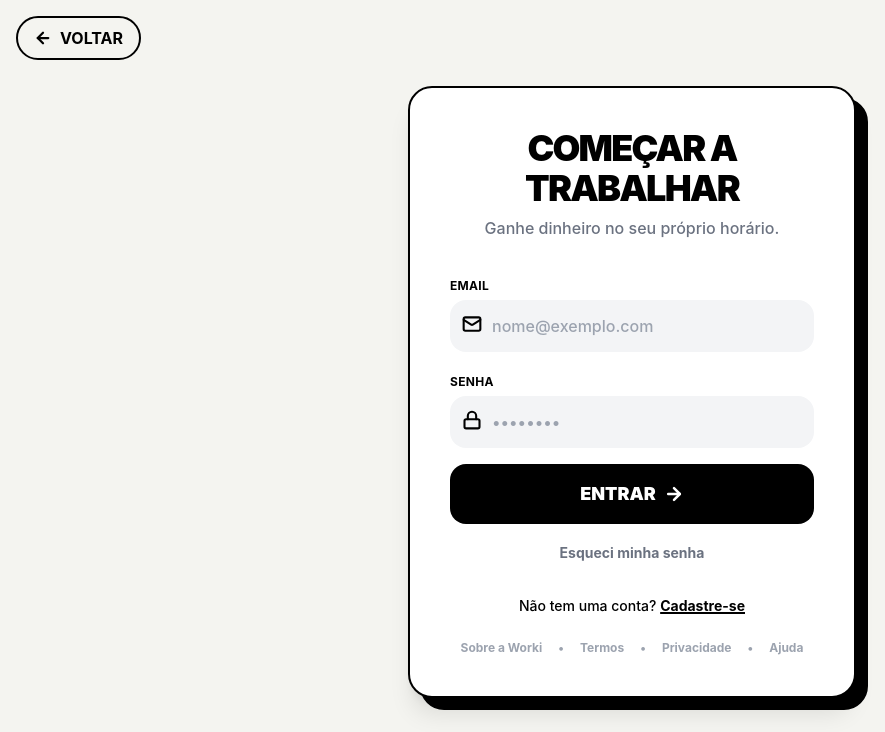
Login › permite alternar entre login e cadastro
This screenshot has width=885, height=732.
Expected: the button "Entrar" is shown, [450,464,814,524]
// Switch to sign up mode
Click the button "Cadastre-se".
click(703, 606)  # box [660,596,745,616]
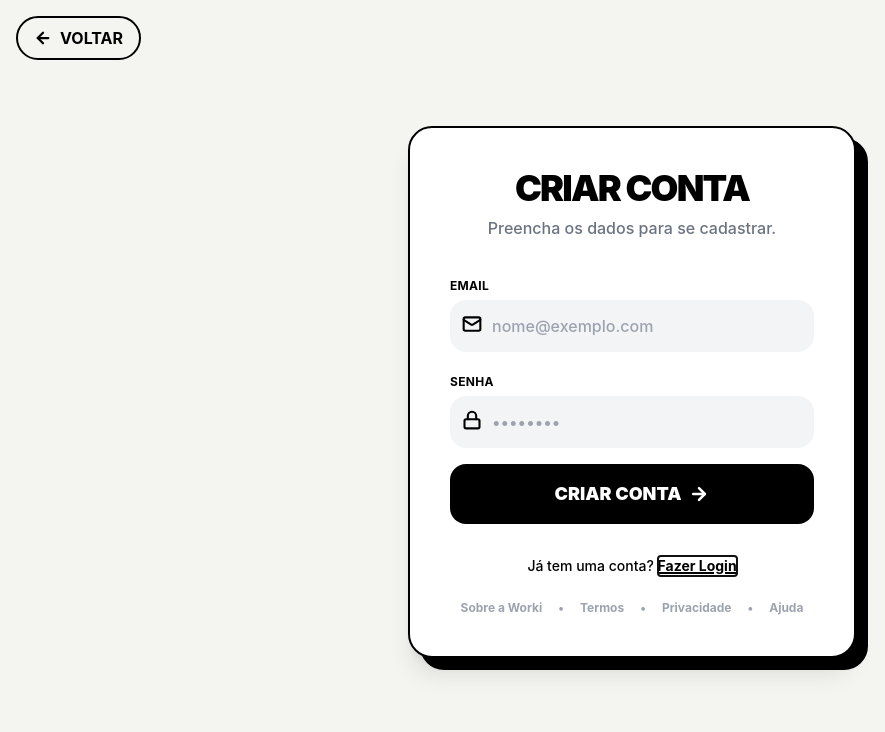
Expected: the button "Criar Conta" is shown, [450,464,814,524]
